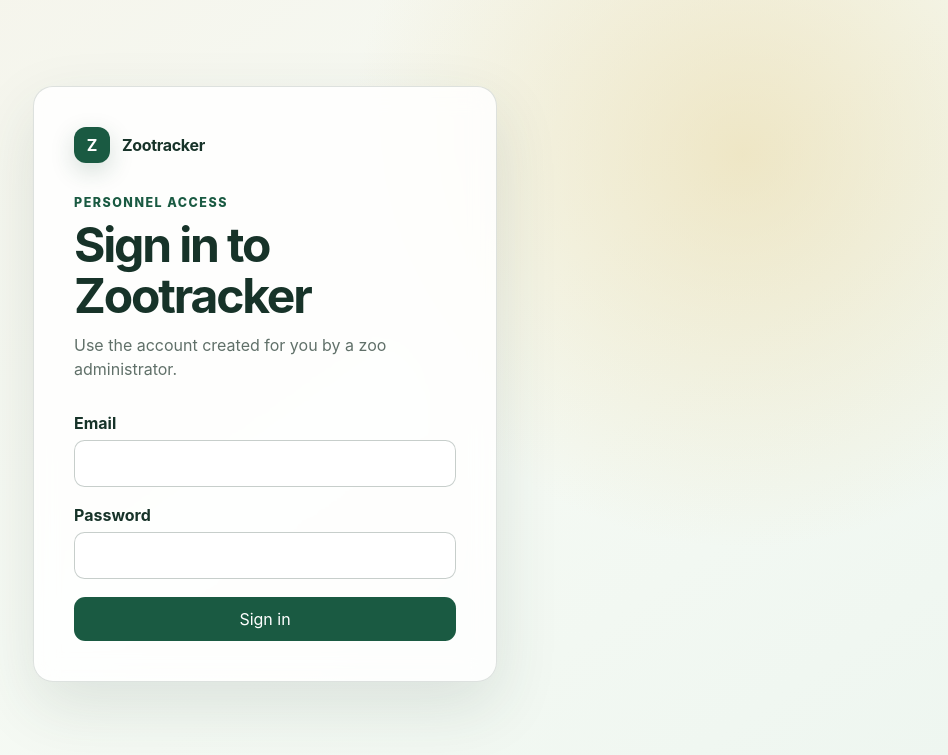
App authentication › reports invalid credentials and preserves the email
This screenshot has width=948, height=755.
Step 1. Type "keeper@example.com" into the field labelled "Email" → point(265, 464), box 74,440 -> 456,487
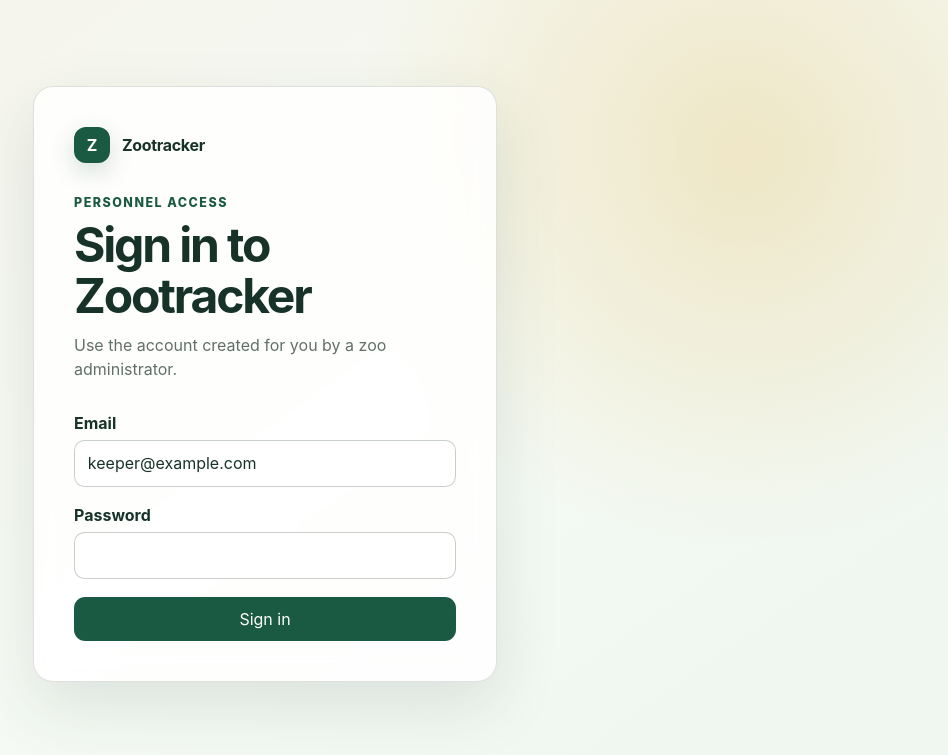
Step 2. Type "incorrect-password" into the password field labelled "Password" → point(265, 556), box 74,532 -> 456,579
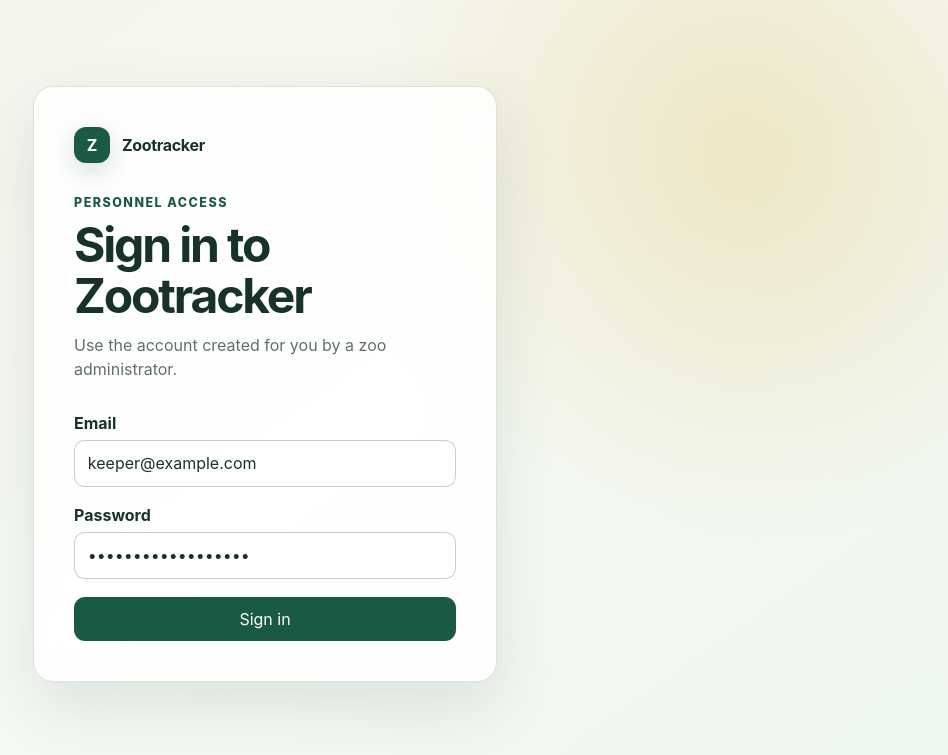
Step 3. Click the button "Sign in" → point(265, 619), box 74,597 -> 456,641
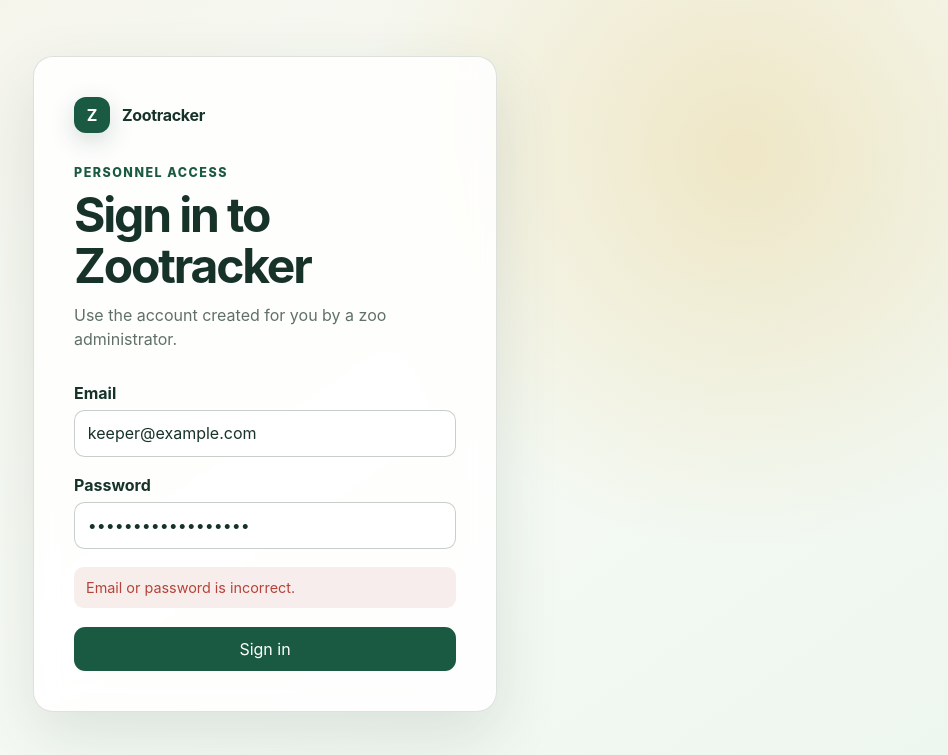
Now the text "Email or password is incorrect." is shown, box 74,567 -> 456,608
